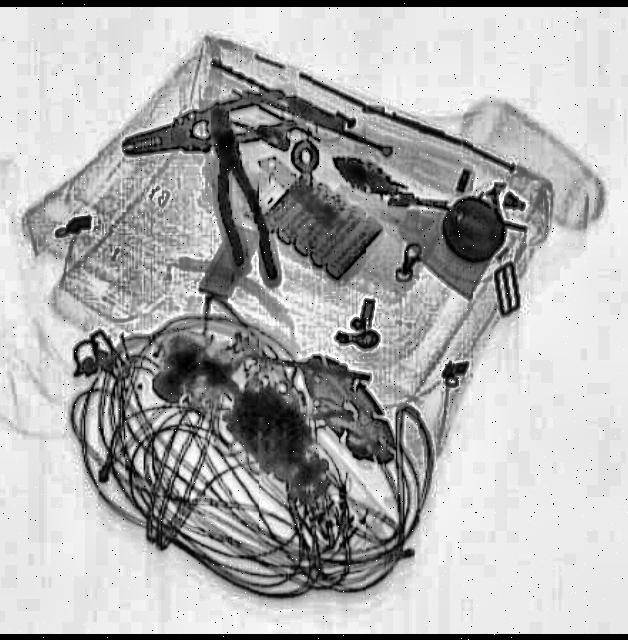Pliers: (189, 95, 279, 288), (116, 80, 296, 168)
